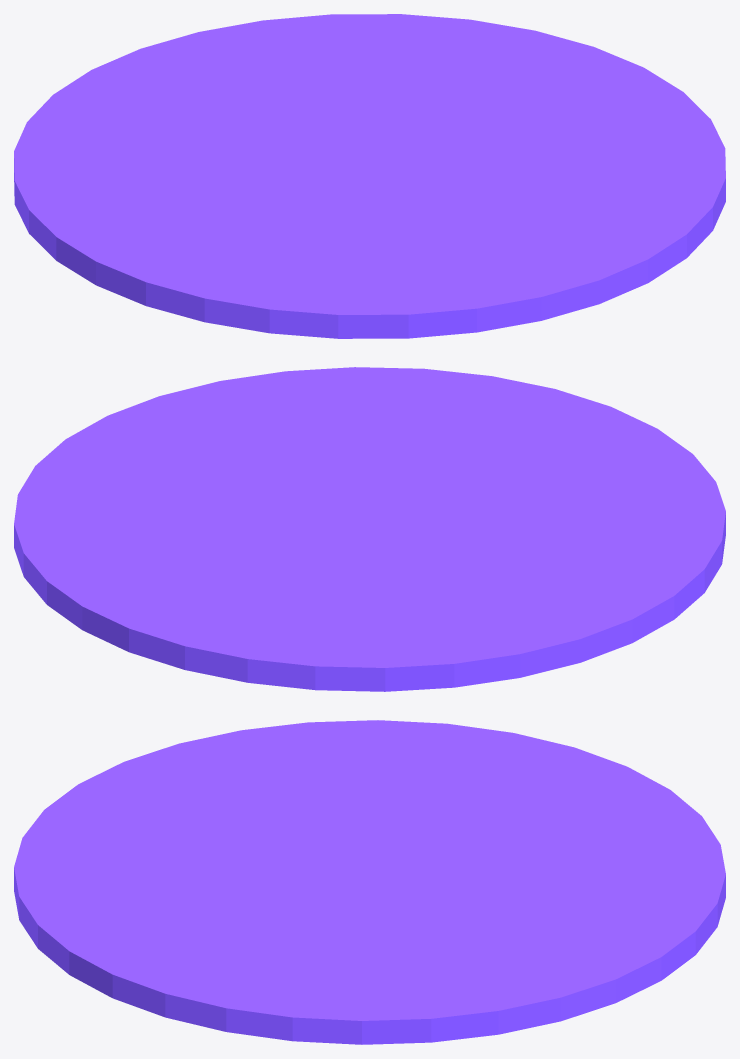
The model's file is circular-platform.glb.
3 renders of one model, top to bottom at view 1: azimuth 30°, elevation 25°; view 2: azimuth 150°, elevation 25°; view 3: azimuth 270°, elevation 25°, orthographic.
Visible parts, largest first — view 1: platform; view 2: platform; view 3: platform.
Part boxes in pixels (x1,y1,x2,y2): platform: (14,14,725,338); platform: (14,367,725,691); platform: (14,720,725,1044).
Size of what is drawn, in the model's own units: 1.03 by 0.038 by 1.03.
